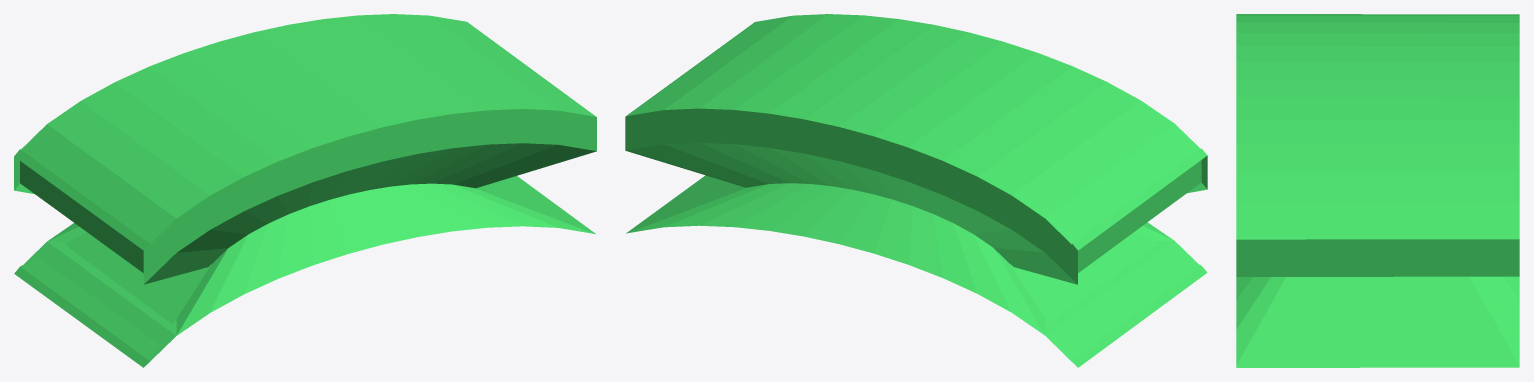
3 views of the same model, side by side, from view 1: azimuth 30°, elevation 25°; view 2: azimuth 150°, elevation 25°; view 3: azimuth 270°, elevation 25° (orthographic). The views are drawn at different scales.
Parts seen in each view (by area): view 1: Paddle; view 2: Paddle; view 3: Paddle.
Part boxes in pixels (<box>): Paddle: <box>14,14,596,367</box>; Paddle: <box>625,14,1207,367</box>; Paddle: <box>1236,14,1519,367</box>.
Size of the model in its own units: 4.04 by 1.56 by 2.
